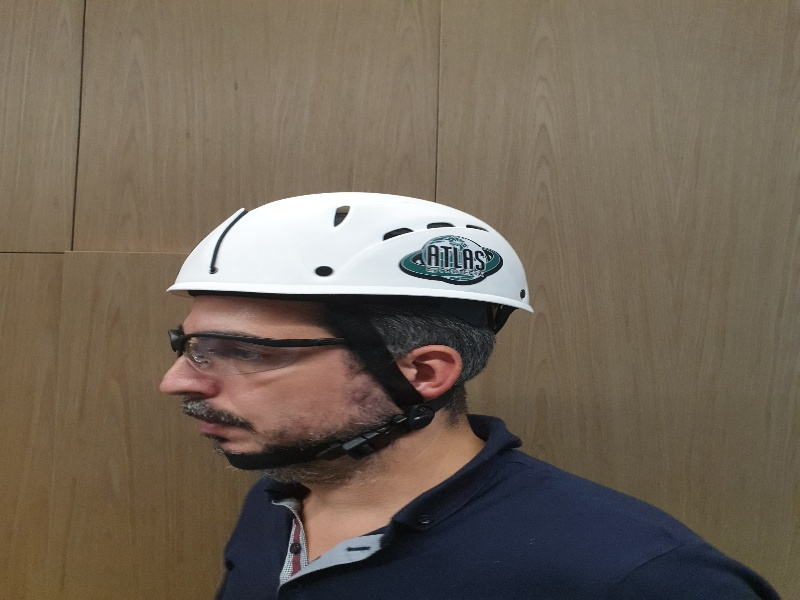Baret: (165, 190, 535, 308)
Gozluk: (165, 327, 381, 374)
